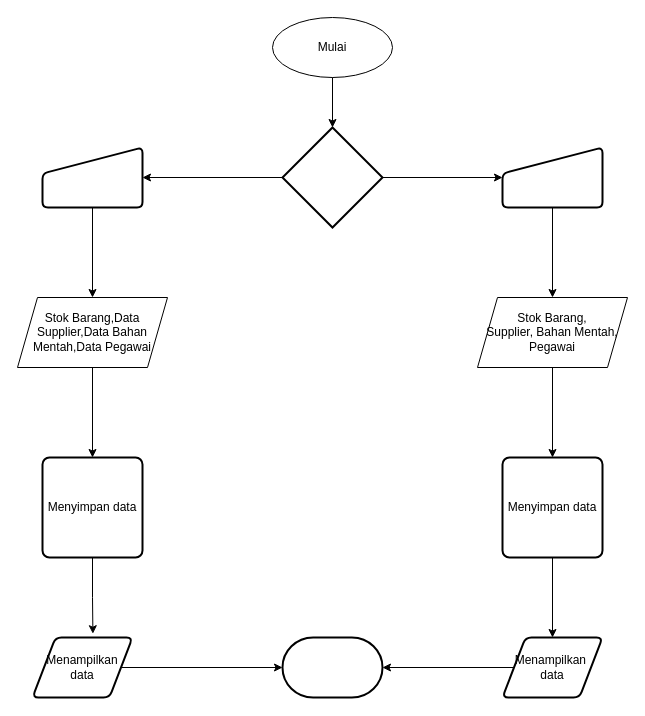
Some shapes in this 645 by 716 pixel diagram are drawn without their labels. The shapes that lost their labels are listed below. From the top down, each one's centre as x and y in pixels, then its label:
At (x=92, y=177): "Admin".
At (x=332, y=177): "Pilih menu".
At (x=552, y=177): "Pegawai".
At (x=332, y=667): "Selesai".
